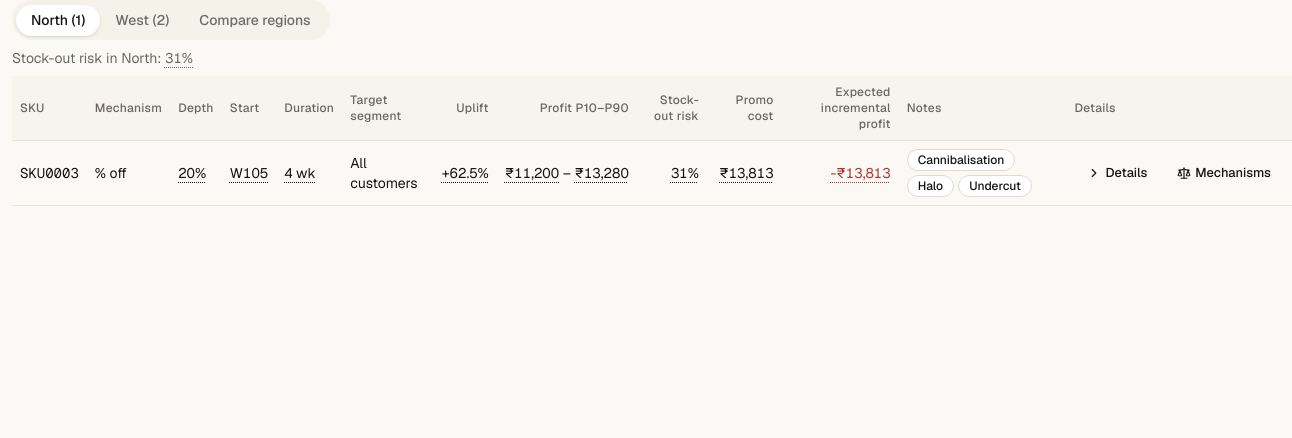
Test case: RegionPlanTabs › shows the selected region's plan lines, with its rationales
Click the tab "West (2)" at {"x": 142, "y": 20}, box x1=100 y1=4 x2=184 y2=36
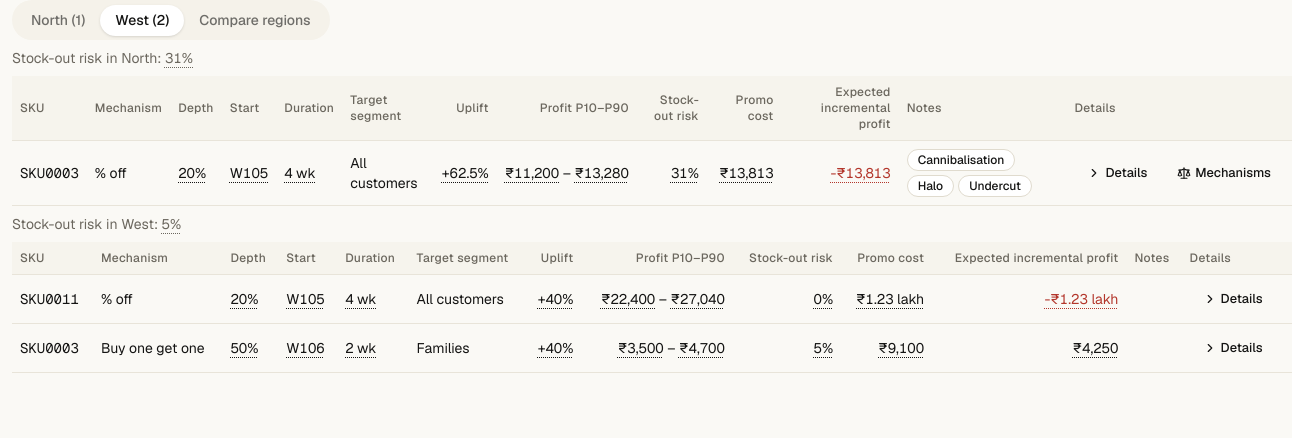
Click the button with aria-label "Details for SKU0003 in West" at {"x": 1233, "y": 348}, box x1=1190 y1=332 x2=1276 y2=364
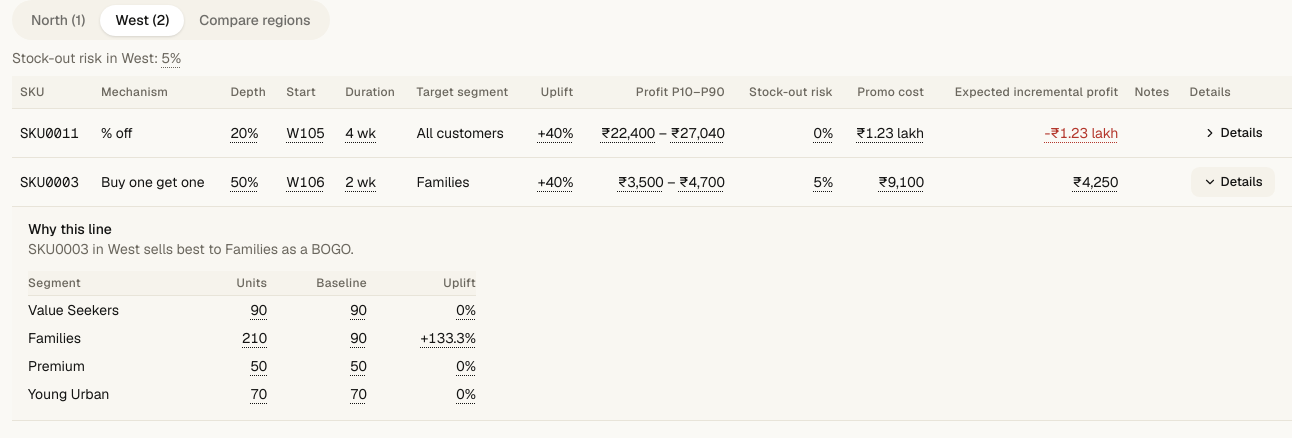
Check: the text "SKU0003 in West sells best to Families as a BOGO." is shown, box x1=28 y1=240 x2=354 y2=258
